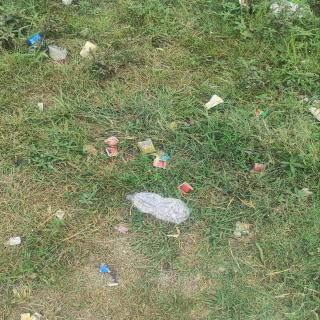Plastic-bottle: (125, 190, 193, 226)
